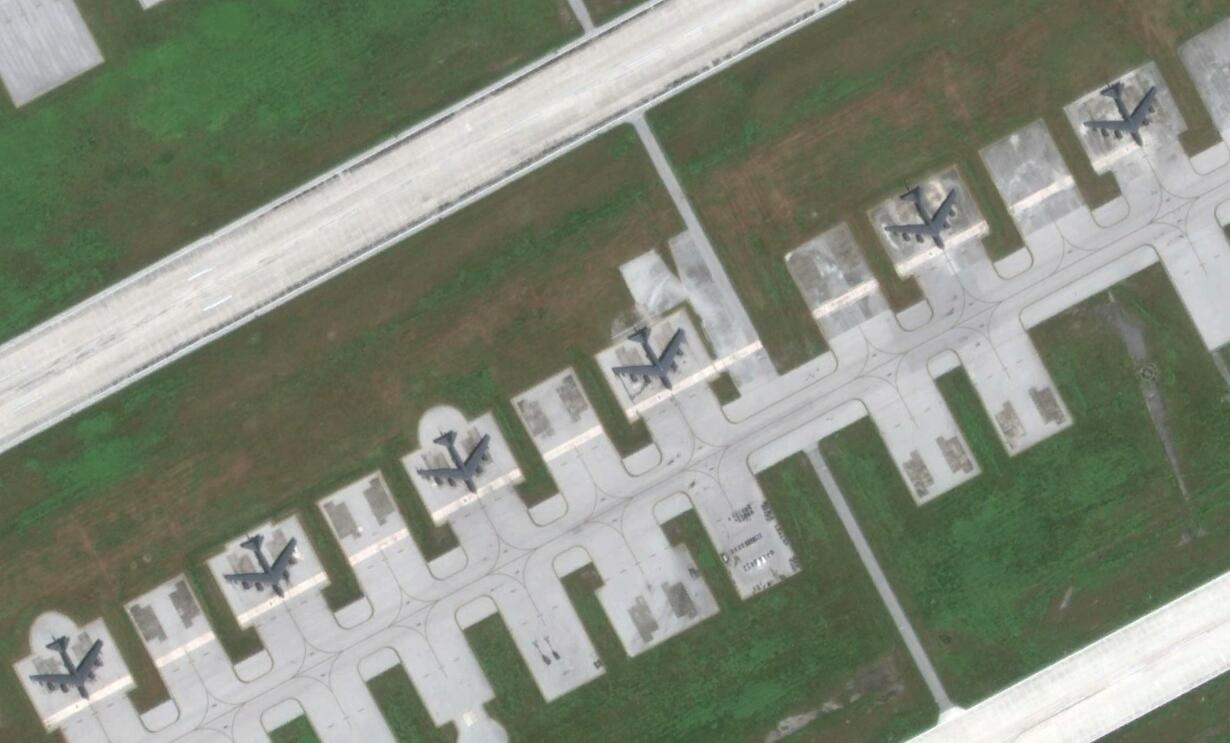A8: (607, 324, 694, 394), (1082, 79, 1164, 150), (414, 428, 497, 497), (30, 633, 110, 703), (222, 532, 302, 600), (888, 181, 963, 253)
